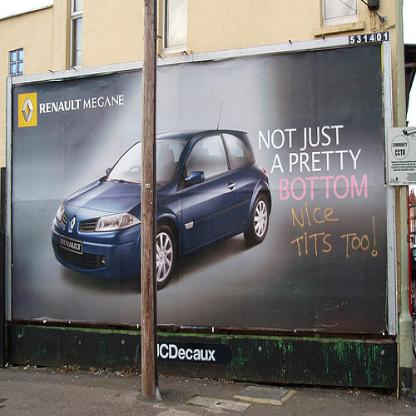car: (51, 130, 273, 293)
